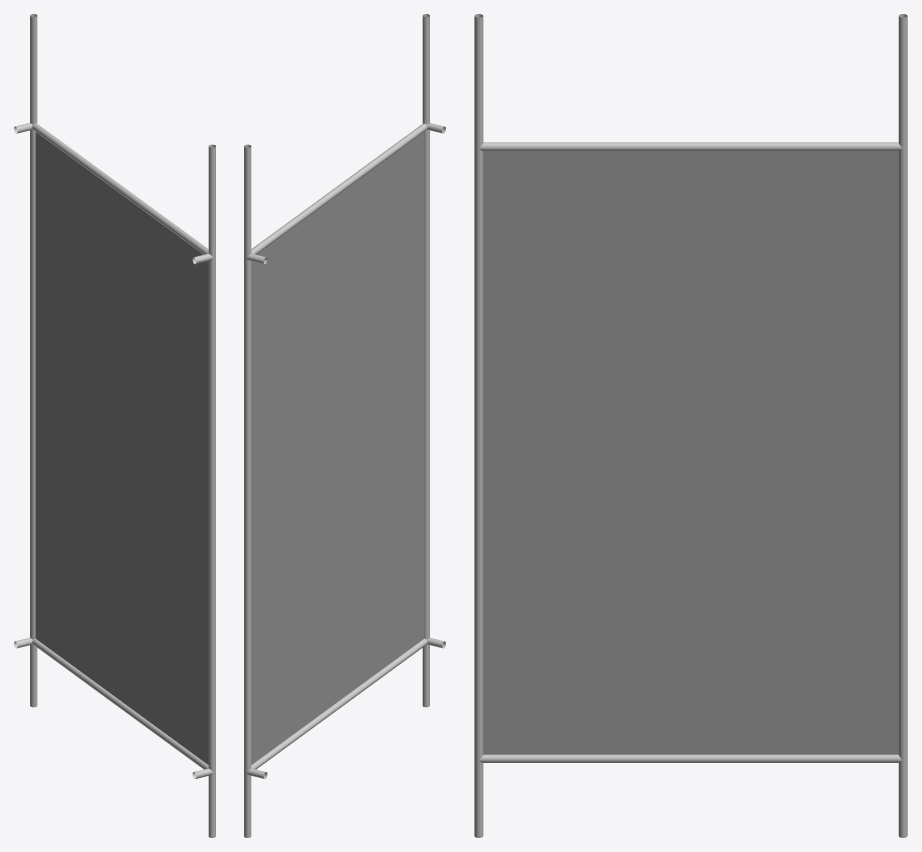
Rendered from SM_WallChain_01.fbx.
3 views of the same model, side by side, from view 1: azimuth 30°, elevation 25°; view 2: azimuth 150°, elevation 25°; view 3: azimuth 270°, elevation 25° (orthographic). The views are drawn at different scales.
Parts seen in each view (by area): view 1: SM_WallChain_01_LOD0; view 2: SM_WallChain_01_LOD0; view 3: SM_WallChain_01_LOD0.
Boxes of the visible parts, box(x1,y1,x2,y2) form: SM_WallChain_01_LOD0: box(14, 14, 215, 837); SM_WallChain_01_LOD0: box(244, 14, 445, 837); SM_WallChain_01_LOD0: box(474, 14, 907, 837).
Size of the model in its own units: 20.45 by 306 by 640.
Materials: 2 (1 with a texture image).
